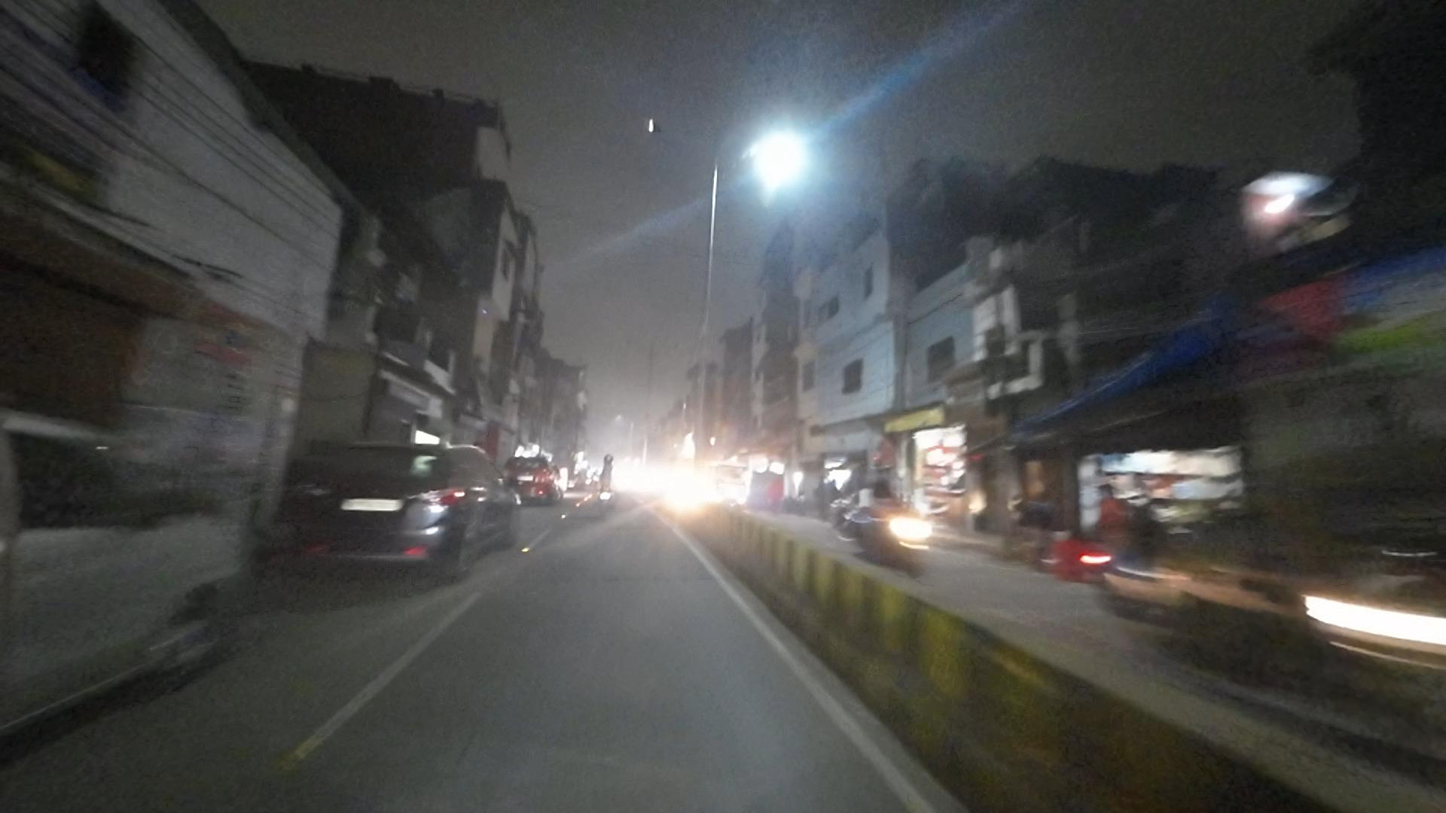streetlight: (636, 113, 704, 150)
